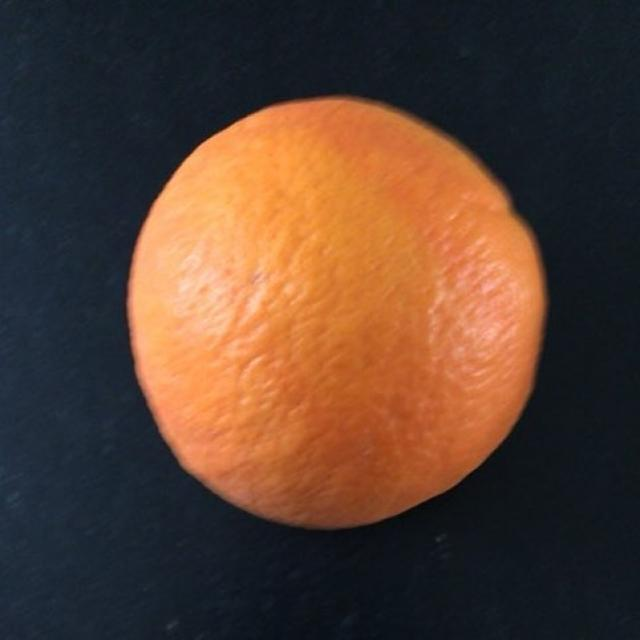orange: (131, 110, 538, 525)
